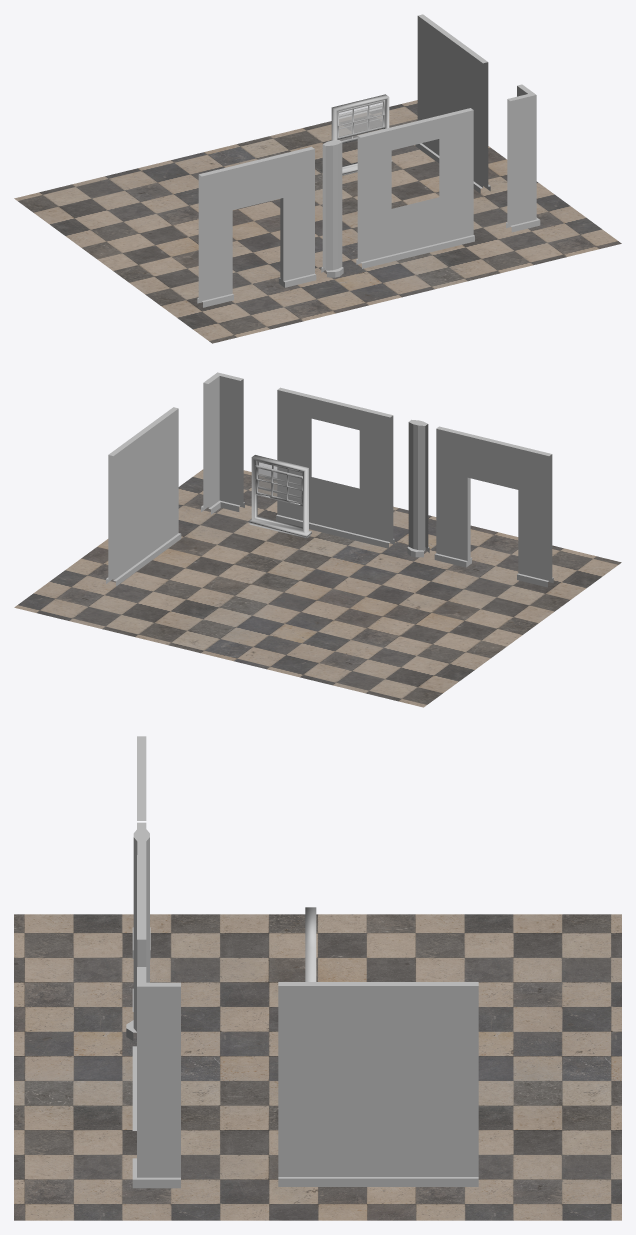
Rendered from modular_building.fbx.
The picture shows the model from 3 angles, top to bottom: view 1: azimuth 30°, elevation 25°; view 2: azimuth 150°, elevation 25°; view 3: azimuth 270°, elevation 25°; orthographic projection. The views are drawn at different scales.
Visible parts, largest first — view 1: Plane, wall_window, wall_door, Wall_plane, Wall_Corner, wall_pilar, window_door__2_glass, window_portal, window_door_1_glass, window_door_2; view 2: Plane, wall_window, wall_door, Wall_plane, Wall_Corner, wall_pilar, window_portal, window_door_1_glass, window_door__2_glass, window_door_1; view 3: Plane, Wall_plane, Wall_Corner, wall_pilar, wall_door, wall_window, window_portal.
Part boxes in pixels (<box>): Plane: <box>14,100,621,343</box>; wall_window: <box>356,108,474,268</box>; wall_door: <box>197,146,316,307</box>; Wall_plane: <box>415,14,490,193</box>; Wall_Corner: <box>506,84,540,232</box>; wall_pilar: <box>321,140,343,277</box>; window_door__2_glass: <box>339,102,382,136</box>; window_portal: <box>331,94,392,175</box>; window_door_1_glass: <box>339,107,381,141</box>; window_door_2: <box>337,100,385,139</box>; Plane: <box>14,469,621,707</box>; wall_window: <box>276,387,394,548</box>; wall_door: <box>434,426,553,587</box>; Wall_plane: <box>106,407,181,586</box>; Wall_Corner: <box>201,372,244,514</box>; wall_pilar: <box>407,419,429,557</box>; window_portal: <box>248,455,311,538</box>; window_door_1_glass: <box>258,468,301,502</box>; window_door__2_glass: <box>258,462,302,496</box>; window_door_1: <box>255,465,302,506</box>; Plane: <box>14,914,621,1220</box>; Wall_plane: <box>278,982,478,1186</box>; Wall_Corner: <box>132,967,180,1188</box>; wall_pilar: <box>126,829,149,1040</box>; wall_door: <box>132,736,150,1011</box>; wall_window: <box>132,855,146,1130</box>; window_portal: <box>305,907,316,981</box>.
Size of the model in its own units: 4345 by 1326 by 3643.
